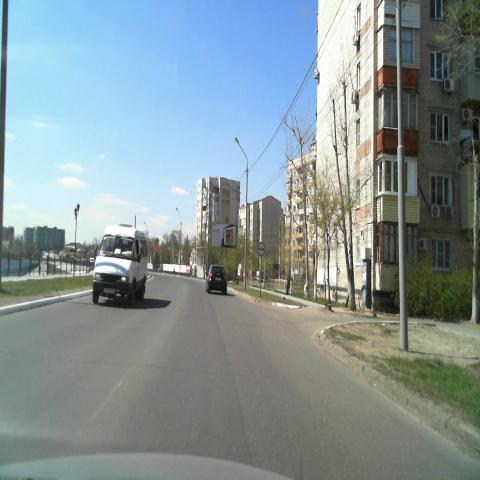3_20: (257, 242, 265, 255)
